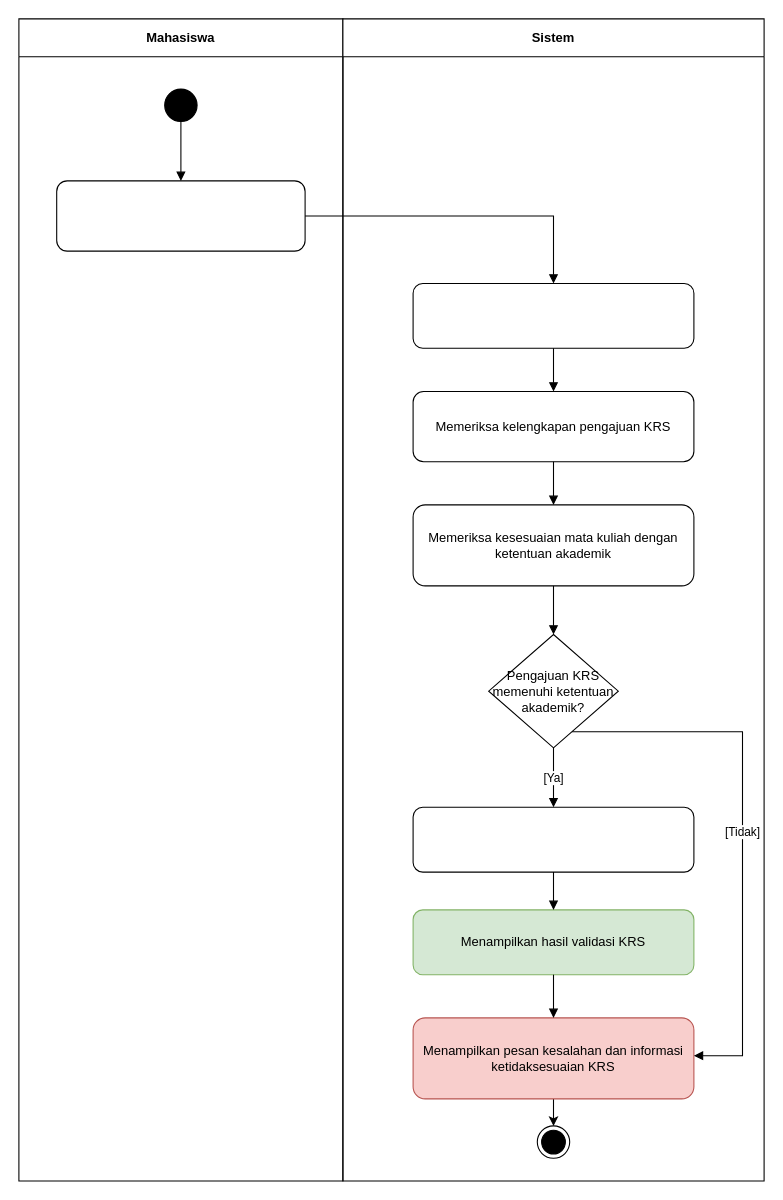
Image size: 783x1200. Some labels were removed from this diagram. The shapes that lost their labels are listed below. From the top down, each one's centre as x and y in pixels, then its label:
At (x=180, y=215): "Mengirimkan pengajuan KRS".
At (x=553, y=315): "Menerima data pengajuan KRS".
At (x=553, y=839): "Menyelesaikan proses validasi".
